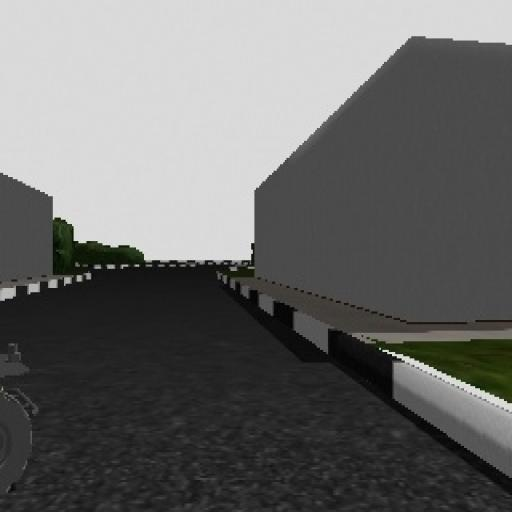huskya200: (0, 322, 50, 512)
